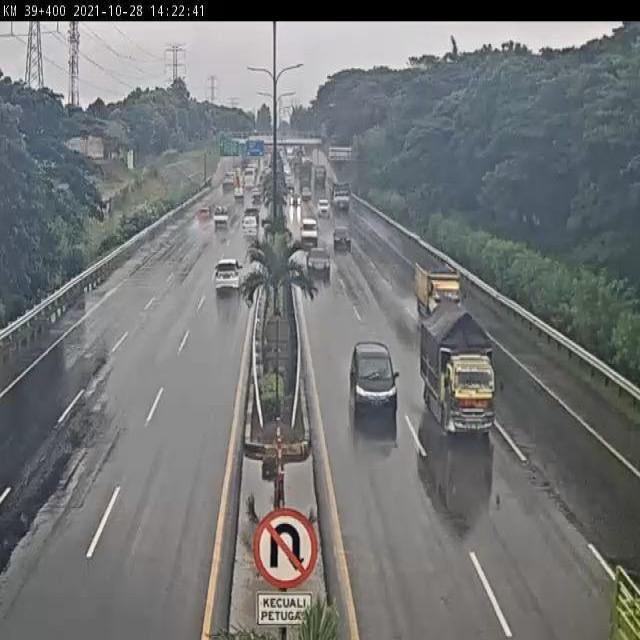big truck: (330, 179, 352, 213)
car: (348, 338, 397, 411), (210, 256, 244, 299), (304, 244, 331, 277), (300, 214, 319, 242), (239, 217, 260, 240), (332, 227, 352, 250), (211, 208, 230, 231), (241, 206, 260, 226), (196, 207, 211, 225)
small truck: (421, 313, 499, 444), (414, 256, 462, 312)
